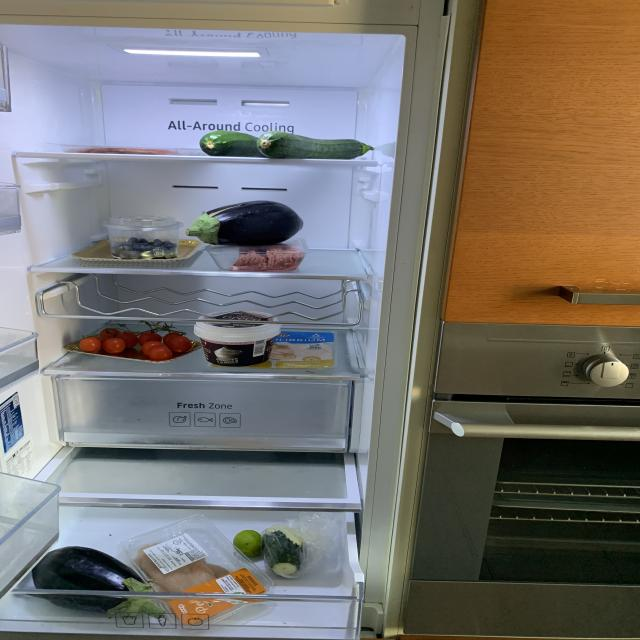aubergine: (30, 546, 166, 618), (186, 200, 304, 247), (264, 529, 302, 575)
blueberries: (111, 238, 175, 258)
cherry_tomato: (80, 327, 190, 359)
chicken_breast: (137, 544, 226, 596)
courgettes: (199, 132, 376, 158)
ground_beef: (232, 247, 306, 270)
ham: (272, 332, 336, 370), (54, 146, 184, 156)
lime: (233, 530, 263, 556)
yoghurt: (194, 311, 281, 366)
